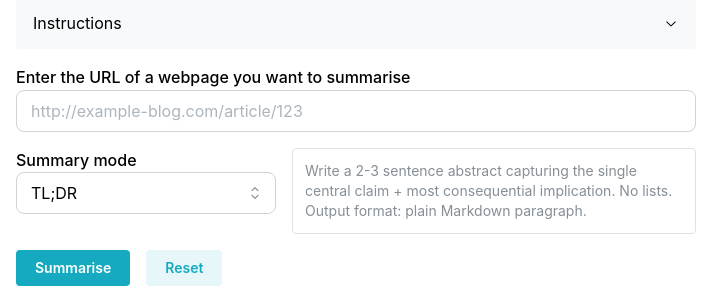
Scenario: ArticleParser component › resets form when reset button is clicked
In the field labelled "Enter the URL of a webpage you want to summarise": {"x": 356, "y": 111} [16, 90, 696, 132], type "Test input"
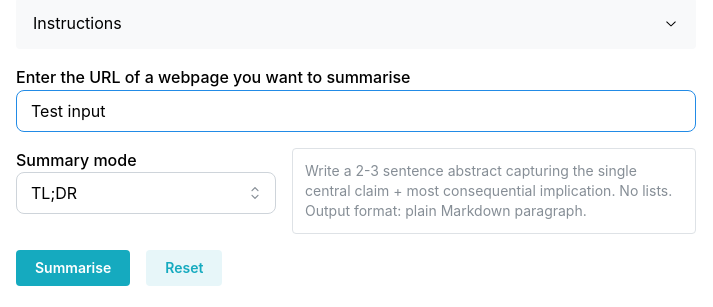
Click the button "Reset": {"x": 184, "y": 268} [146, 250, 222, 286]
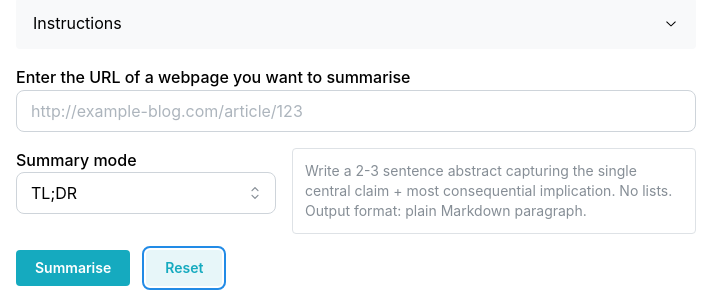
Result: the field labelled "Enter the URL of a webpage you want to summarise" is empty at [16, 90, 696, 132]
